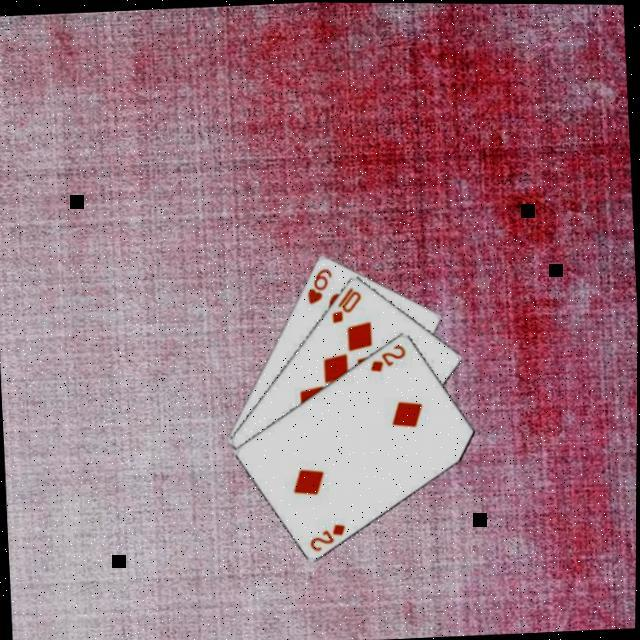10D: (326, 284, 364, 327)
2D: (364, 342, 408, 376), (305, 521, 349, 555)
6H: (302, 266, 334, 309)
